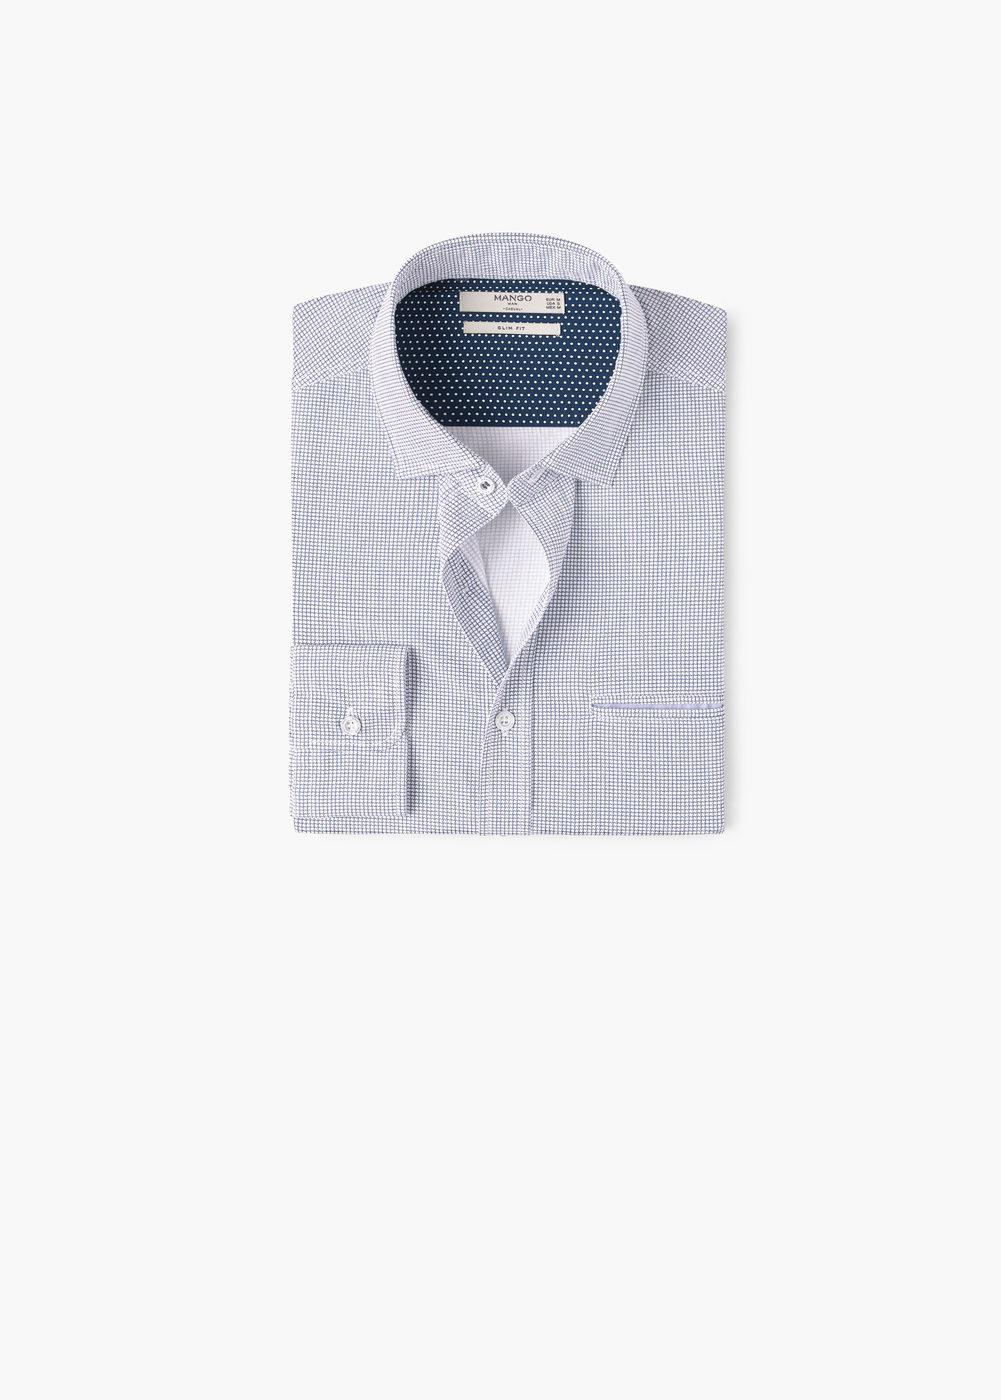teeshirt: (259, 225, 776, 863)
